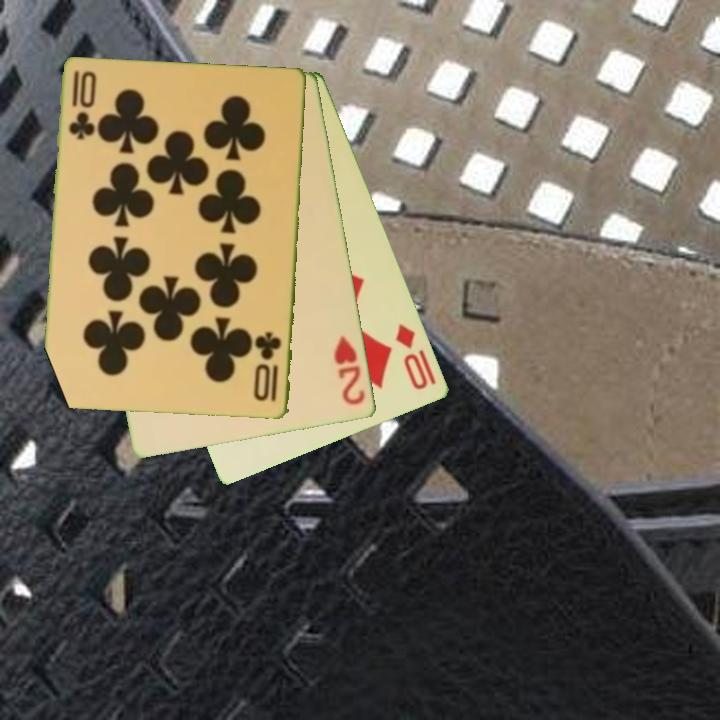10c: (251, 328, 284, 405), (66, 67, 97, 143)
10d: (392, 320, 440, 393)
2h: (331, 333, 369, 409)
